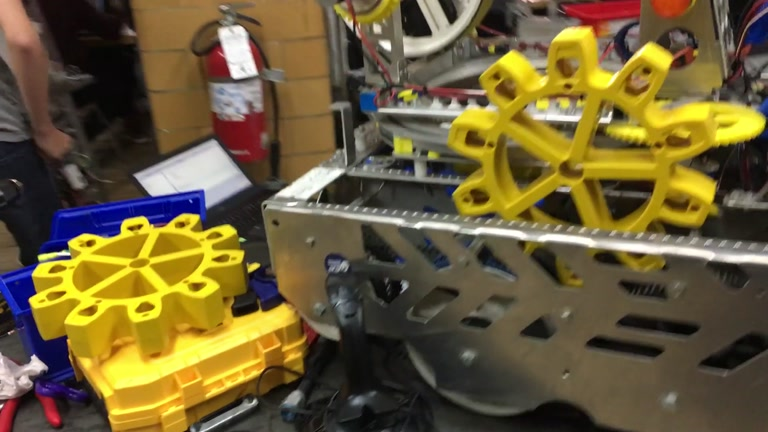gear: (445, 26, 718, 286), (28, 213, 245, 360)
